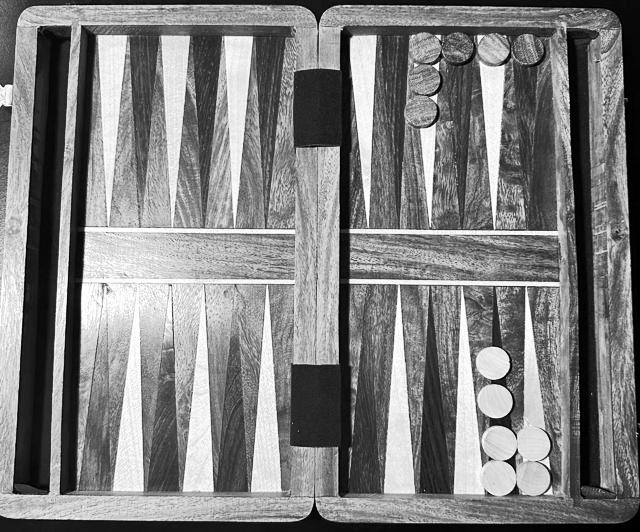bar: (292, 31, 345, 489)
board: (70, 23, 571, 503)
dark_p: (398, 92, 441, 133), (472, 28, 513, 68), (439, 28, 478, 65), (404, 30, 445, 65), (405, 63, 444, 97)
light_p: (474, 381, 516, 422), (478, 458, 518, 498), (514, 459, 555, 498), (473, 344, 515, 382), (515, 424, 555, 462), (479, 424, 518, 462), (511, 31, 548, 68)
